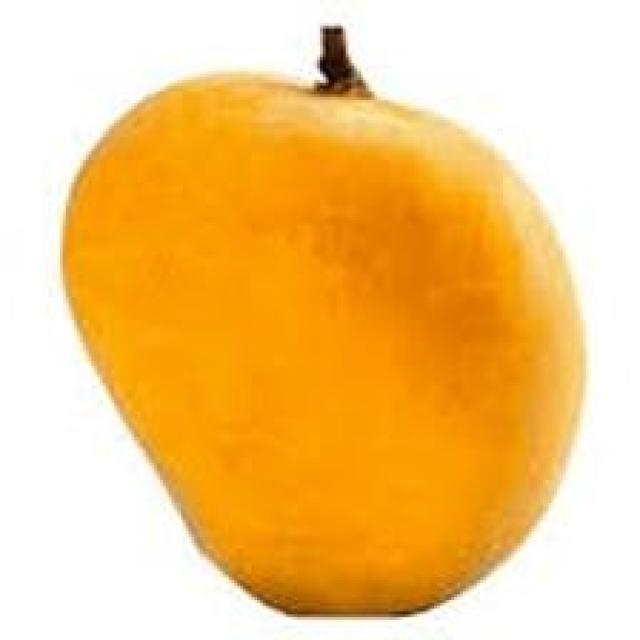Good_Mango: (60, 74, 591, 617)
